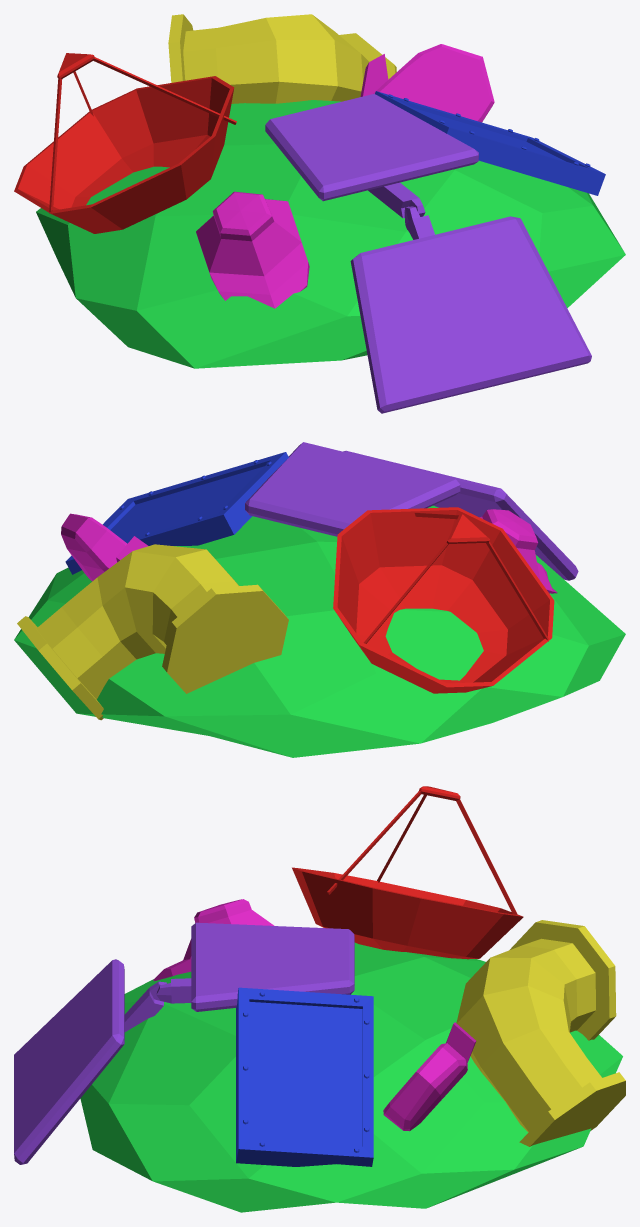
File: scraps2.fbx
3 views of the same model, one above another, from view 1: azimuth 30°, elevation 25°; view 2: azimuth 150°, elevation 25°; view 3: azimuth 270°, elevation 25° (orthographic).
Visible parts, largest first — view 1: Cube; view 2: Cube; view 3: Cube.
Boxes of the visible parts, x1,y1,x2,y2 form: Cube: (14,14,625,413); Cube: (14,442,625,757); Cube: (14,786,625,1212).
Size of the model in its own units: 200 by 87.8 by 208.
